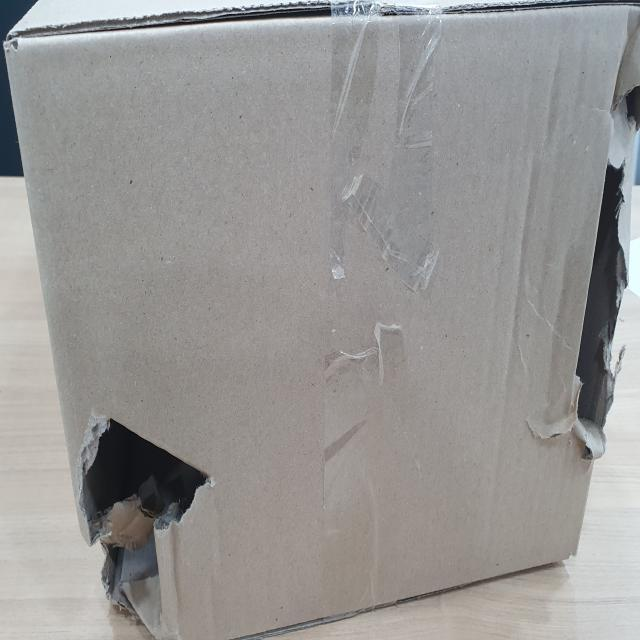hole: (566, 34, 638, 456), (74, 395, 209, 615)
